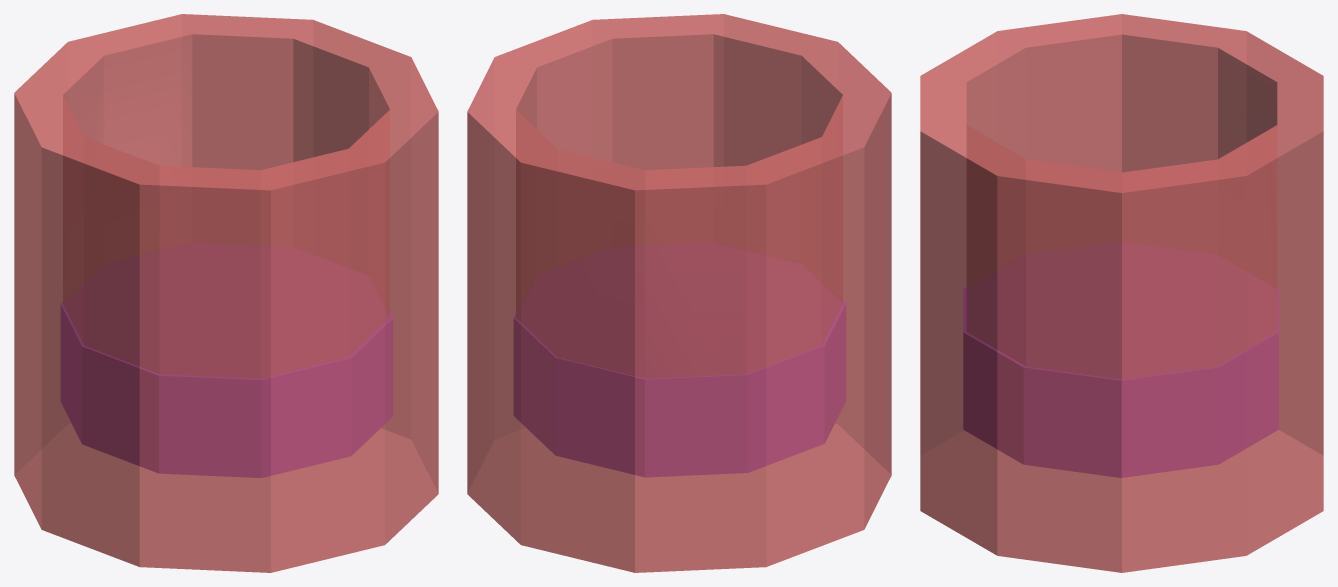
The model's file is Copo vermelho2.fbx.
3 renders of one model, left to right at view 1: azimuth 30°, elevation 25°; view 2: azimuth 150°, elevation 25°; view 3: azimuth 270°, elevation 25°, orthographic.
Parts seen in each view (by area): view 1: pCylinder3; view 2: pCylinder3; view 3: pCylinder3.
Boxes of the visible parts, x1,y1,x2,y2 form: pCylinder3: [14, 14, 438, 572]; pCylinder3: [467, 14, 891, 572]; pCylinder3: [920, 14, 1323, 572].
Size of the model in its own units: 2 by 1.98 by 1.9.
